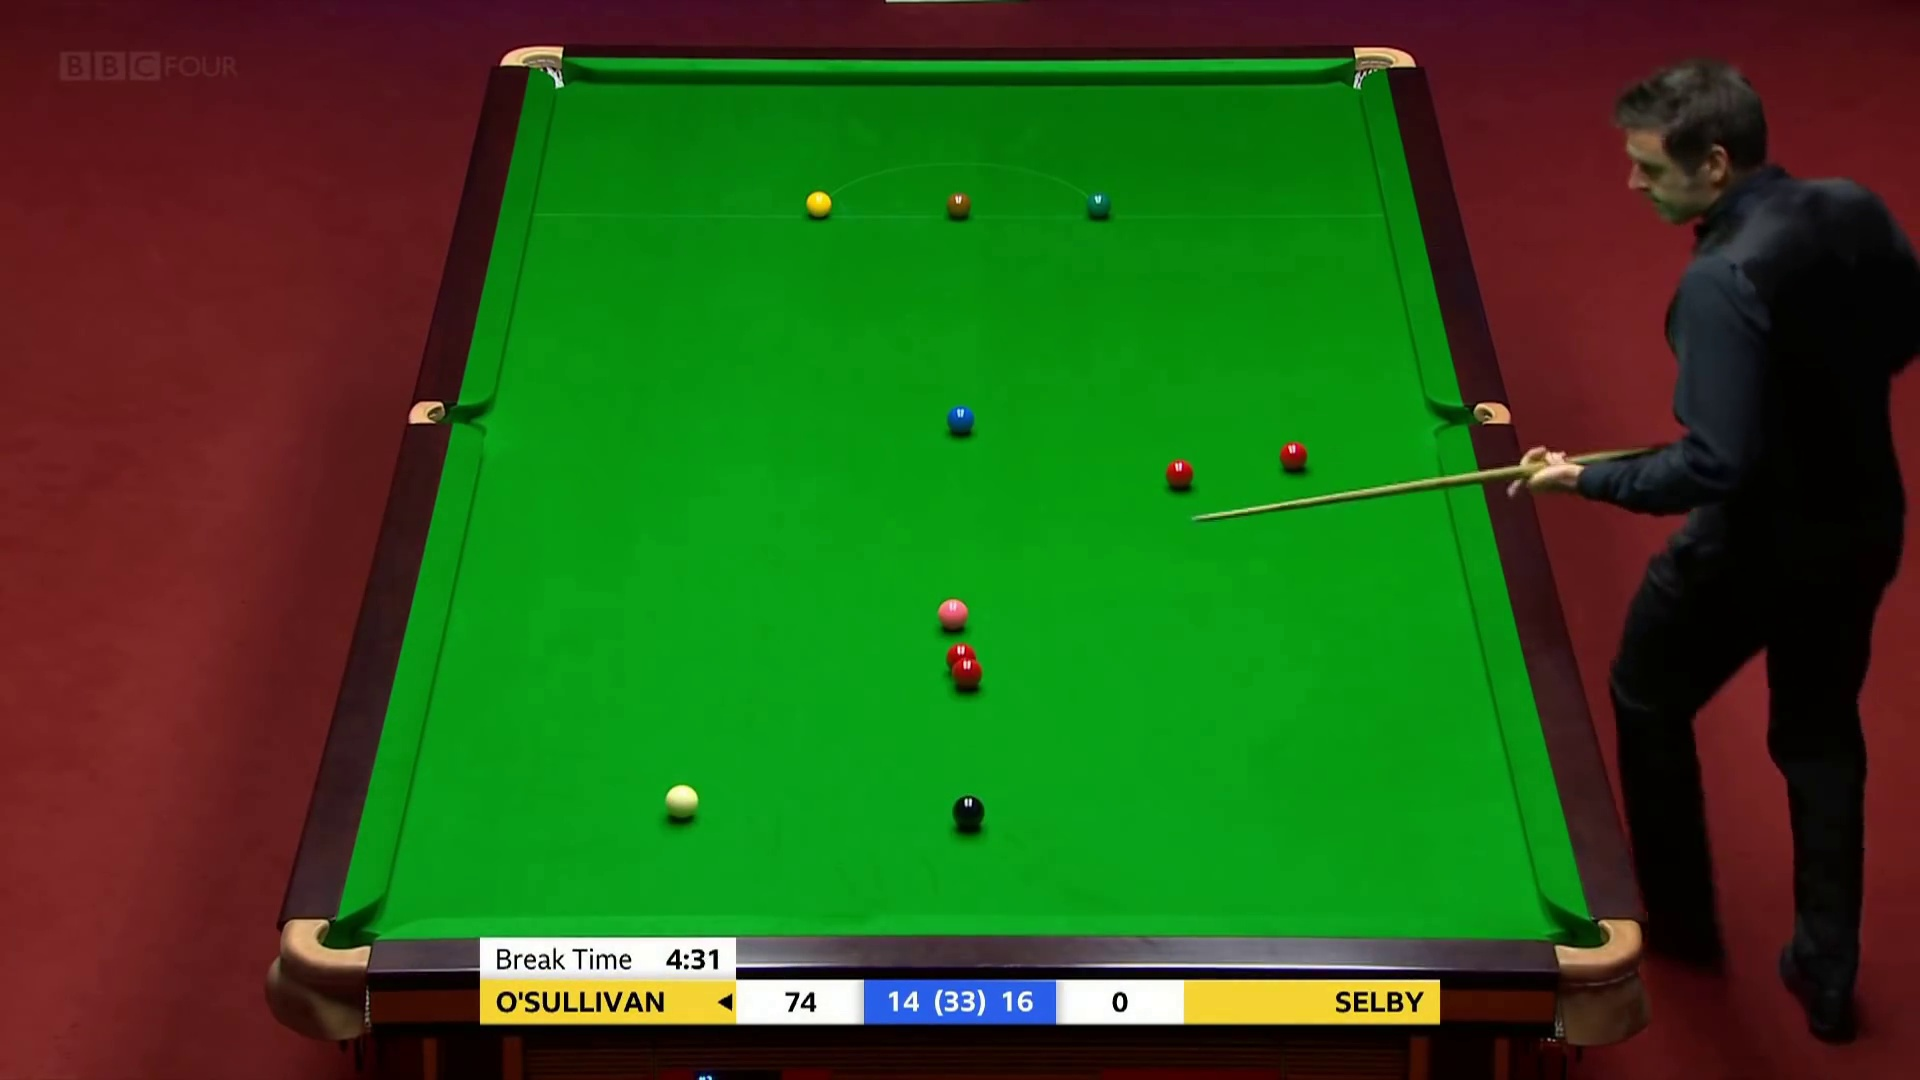black: (948, 791, 990, 837)
blue: (943, 402, 980, 443)
brown: (943, 190, 978, 225)
green: (1083, 181, 1120, 228)
pink: (934, 591, 978, 638)
red: (1274, 436, 1313, 480), (1160, 459, 1199, 496), (943, 642, 984, 676), (948, 659, 984, 695)
white: (653, 781, 703, 824)
yellow: (804, 189, 837, 225)
